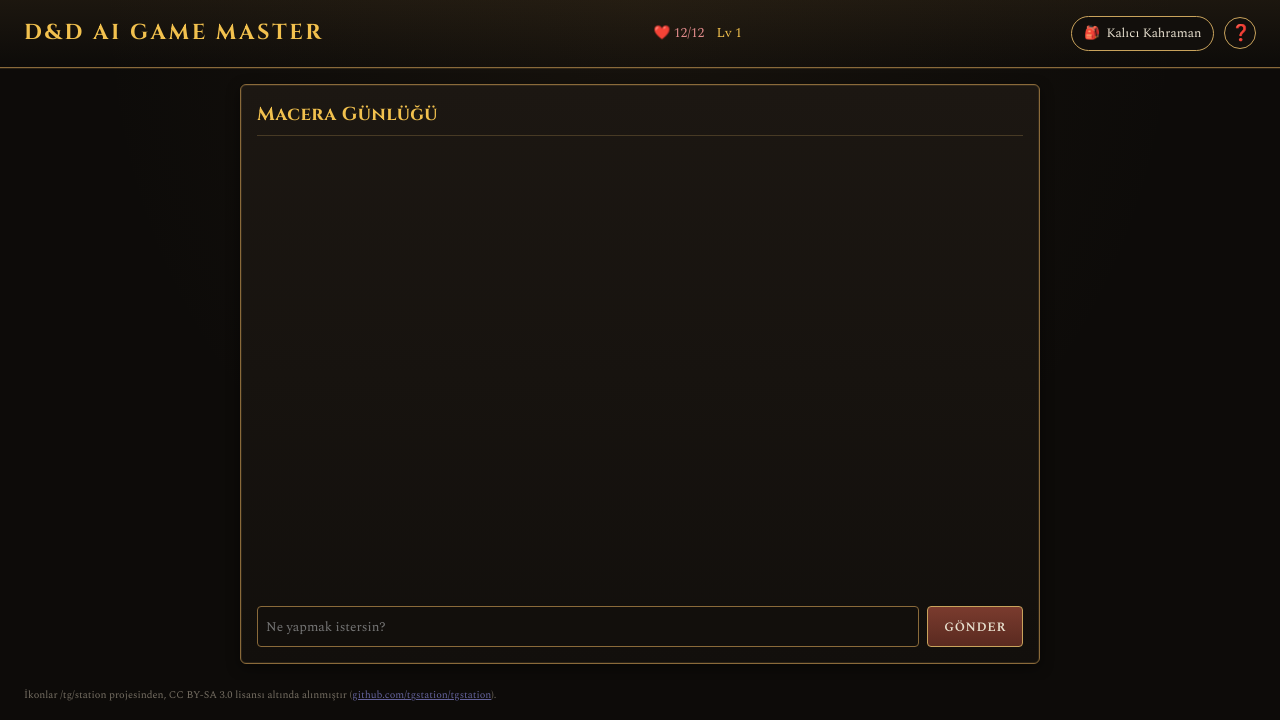
Test: App — İnovasyon fikri #106: karakter paneli overlay'i HelpModal'ın a11y desenlerini (dialog rolü, focus, Escape) taşımalı › Escape tuşuna basınca panel kapanır
Expected: the text "Kalıcı Kahraman" is shown, left=1106, top=23, right=1202, bottom=43
Click the button with aria-label "karakter ve envanteri aç/kapat": click(1143, 33) left=1071, top=16, right=1214, bottom=51
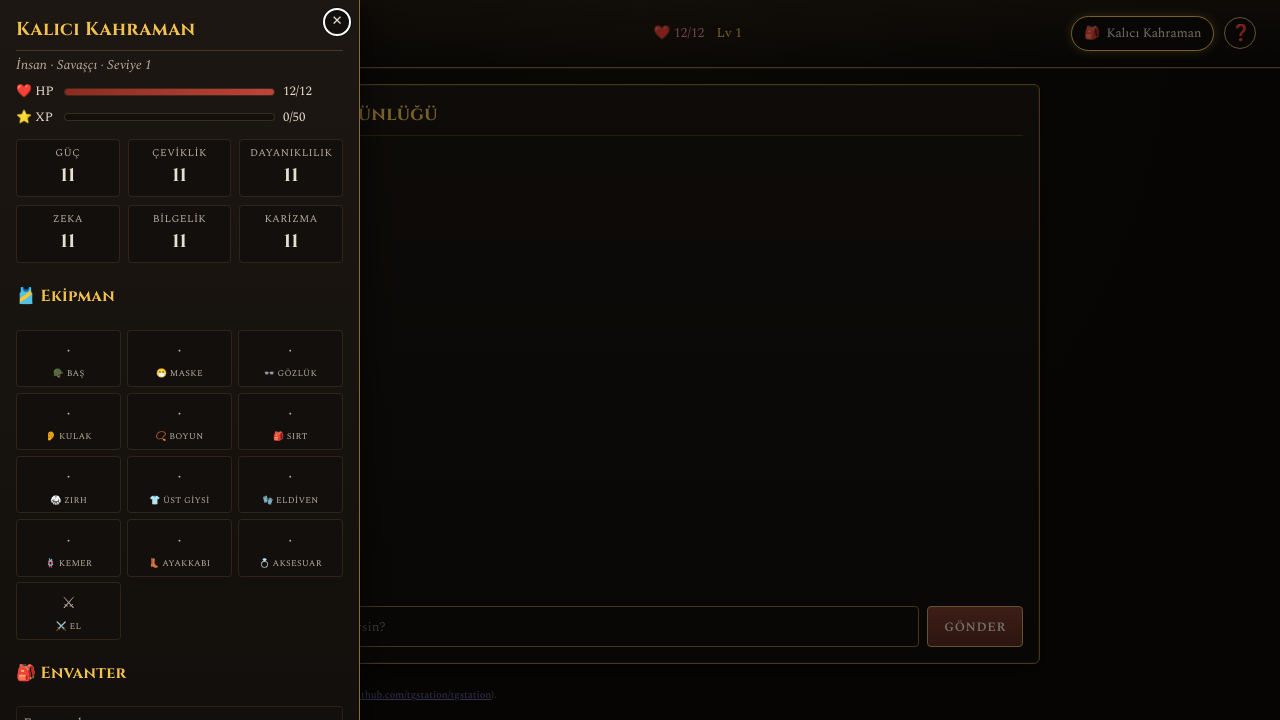
Expected: the dialog is shown, left=0, top=0, right=360, bottom=719
Press Escape
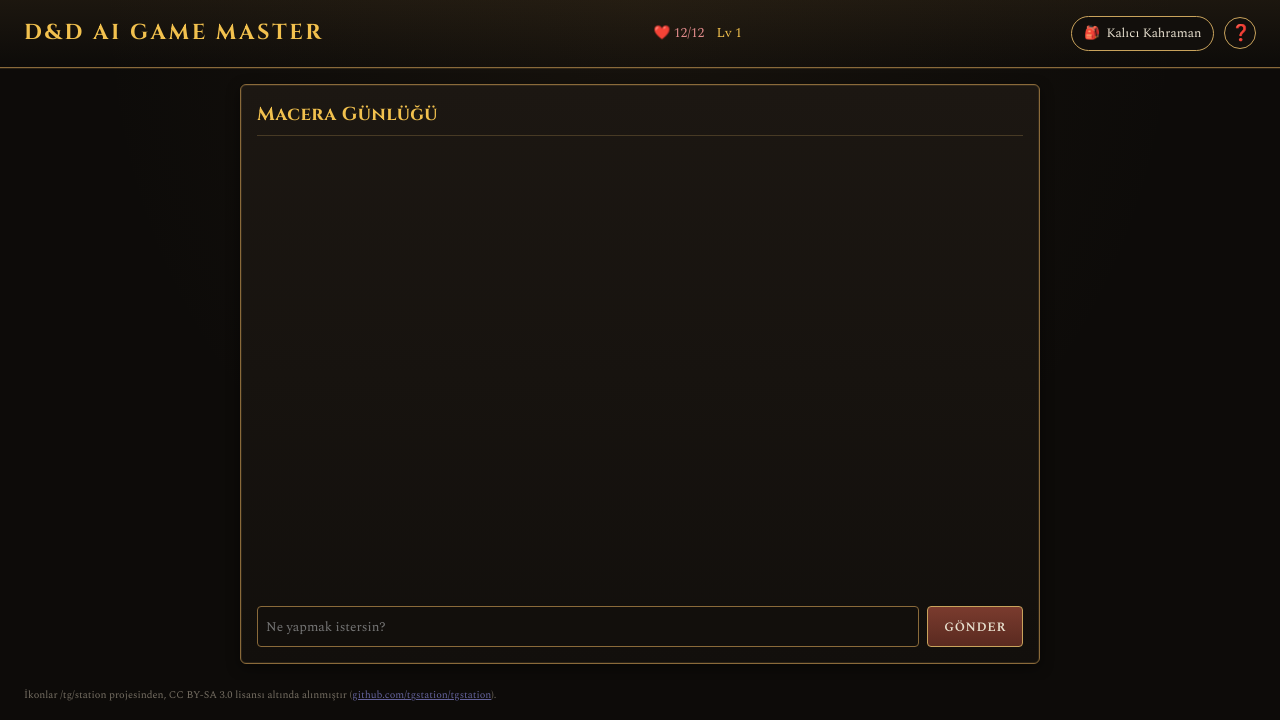
Expected: the dialog is gone
